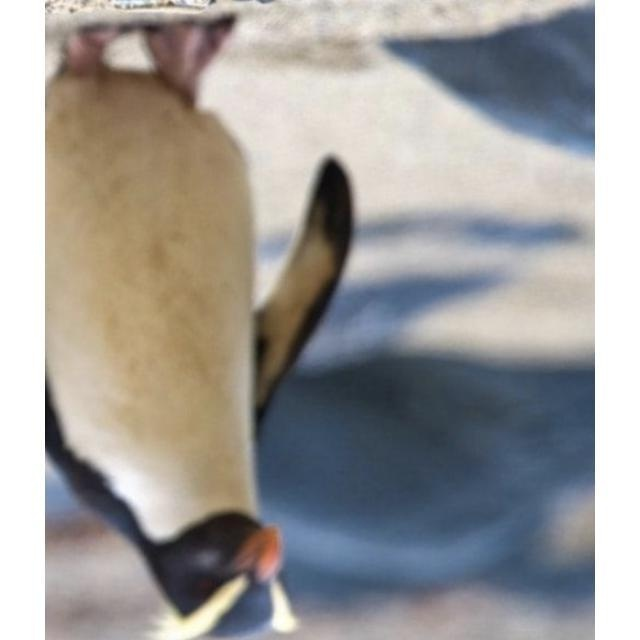penguin: (49, 14, 355, 638)
